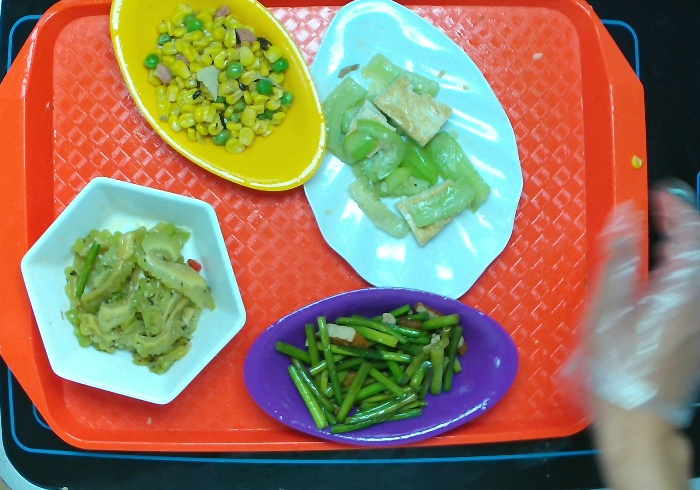RJxy-Bai_Ye_Pan: (300, 1, 526, 309)
RJxy-Fen_Hong_Tuo_Yuan: (241, 281, 528, 456)
RJxy-Huang_Se_Tuo_Yuan: (96, 1, 331, 201)
RJxy-Liu_Jiao_Wan: (18, 172, 244, 414)
